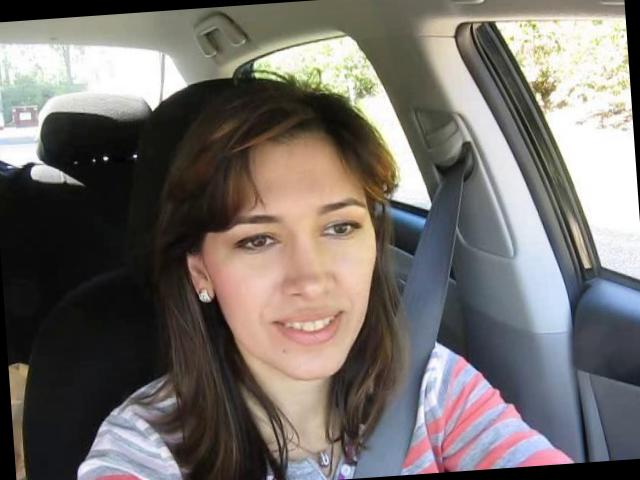eye_open: (230, 225, 284, 256), (318, 214, 367, 246)
face: (205, 181, 388, 387)
